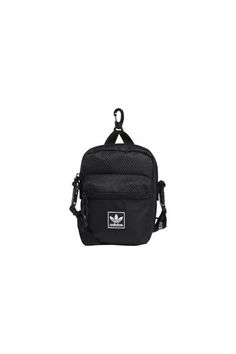adidas Originale: (104, 211, 128, 227)
